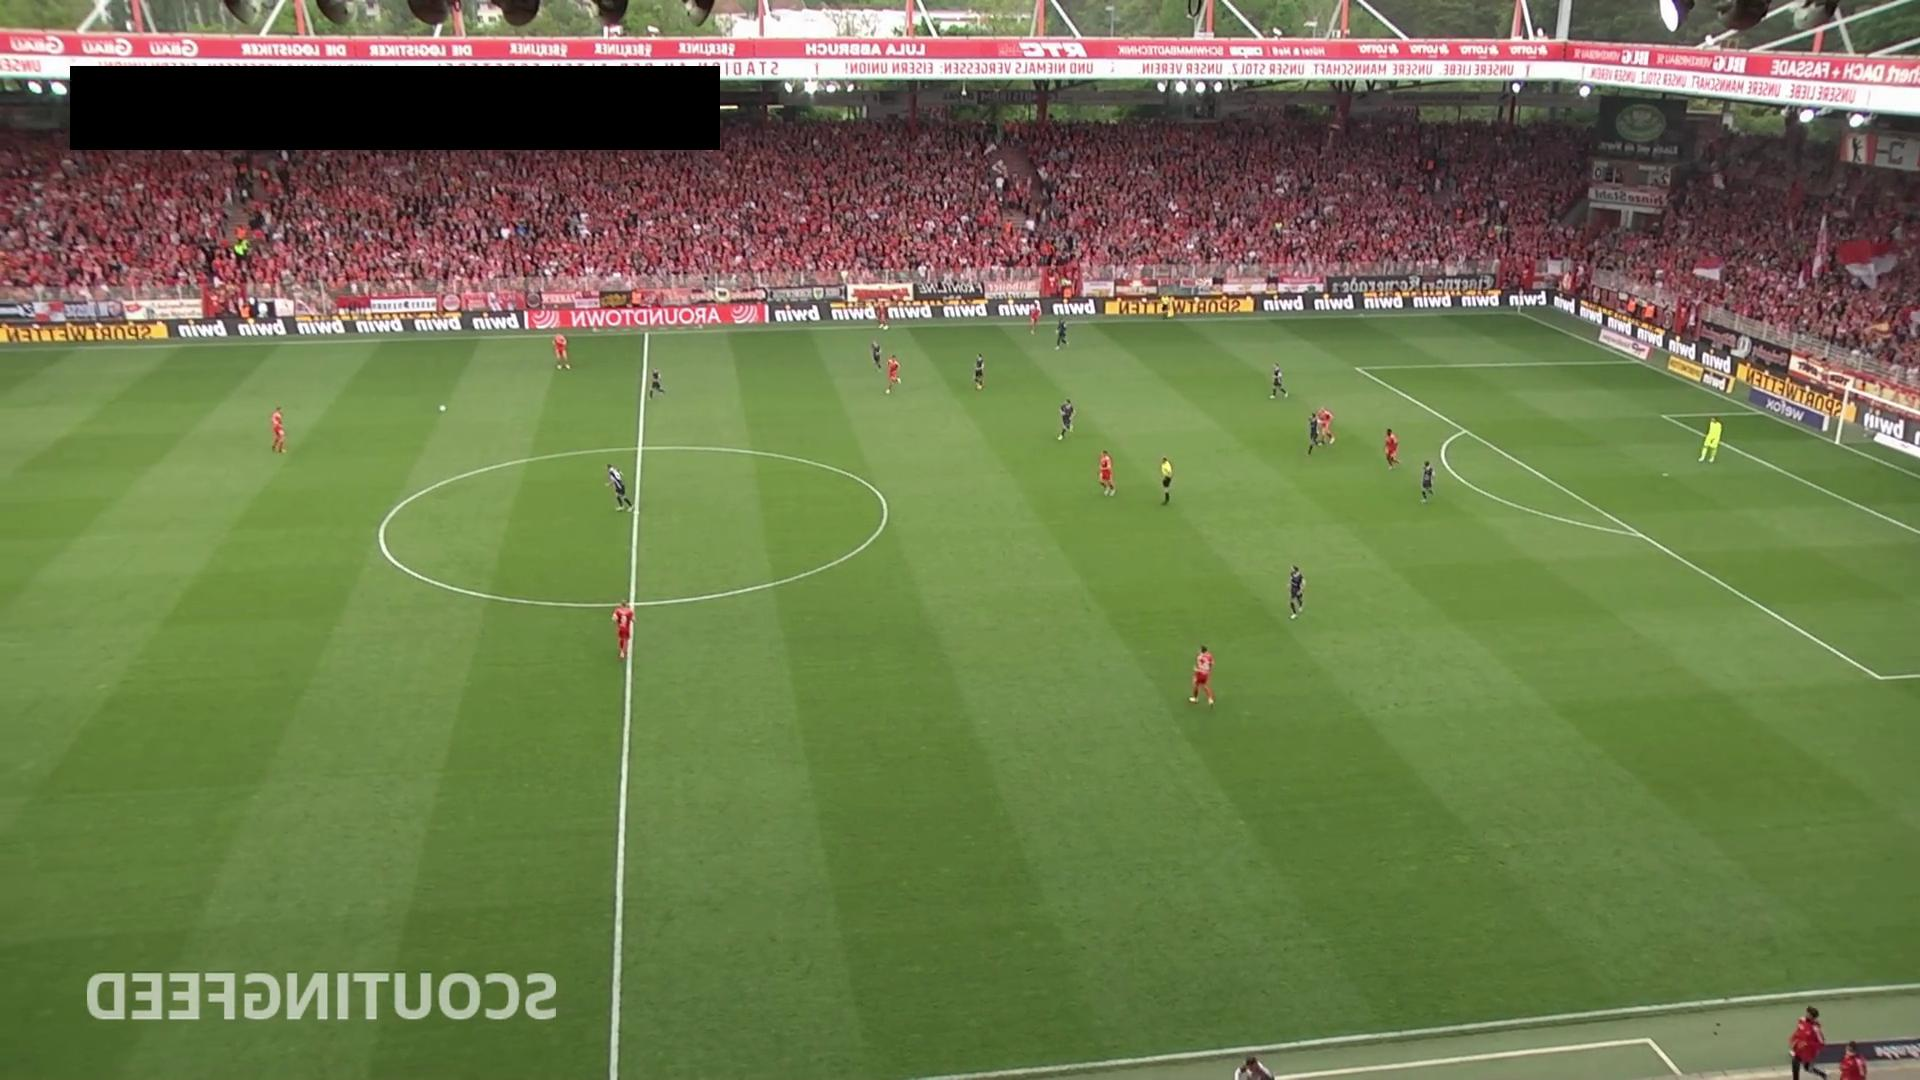ball: (437, 403, 448, 414)
goalkeeper: (1697, 416, 1723, 463)
player: (1187, 644, 1216, 709), (611, 598, 635, 661), (606, 463, 633, 511), (1288, 565, 1305, 619), (1098, 449, 1117, 497), (270, 406, 287, 454), (1057, 398, 1075, 440), (552, 333, 571, 370), (1316, 407, 1334, 446), (884, 354, 901, 394), (1384, 428, 1400, 470), (1269, 363, 1288, 398), (1421, 460, 1435, 503), (1307, 411, 1319, 456), (649, 368, 666, 398), (875, 298, 890, 330), (973, 352, 985, 391), (1029, 301, 1041, 335), (1056, 319, 1069, 349), (871, 339, 882, 370)
referee: (1159, 455, 1174, 505), (1160, 291, 1171, 320)
